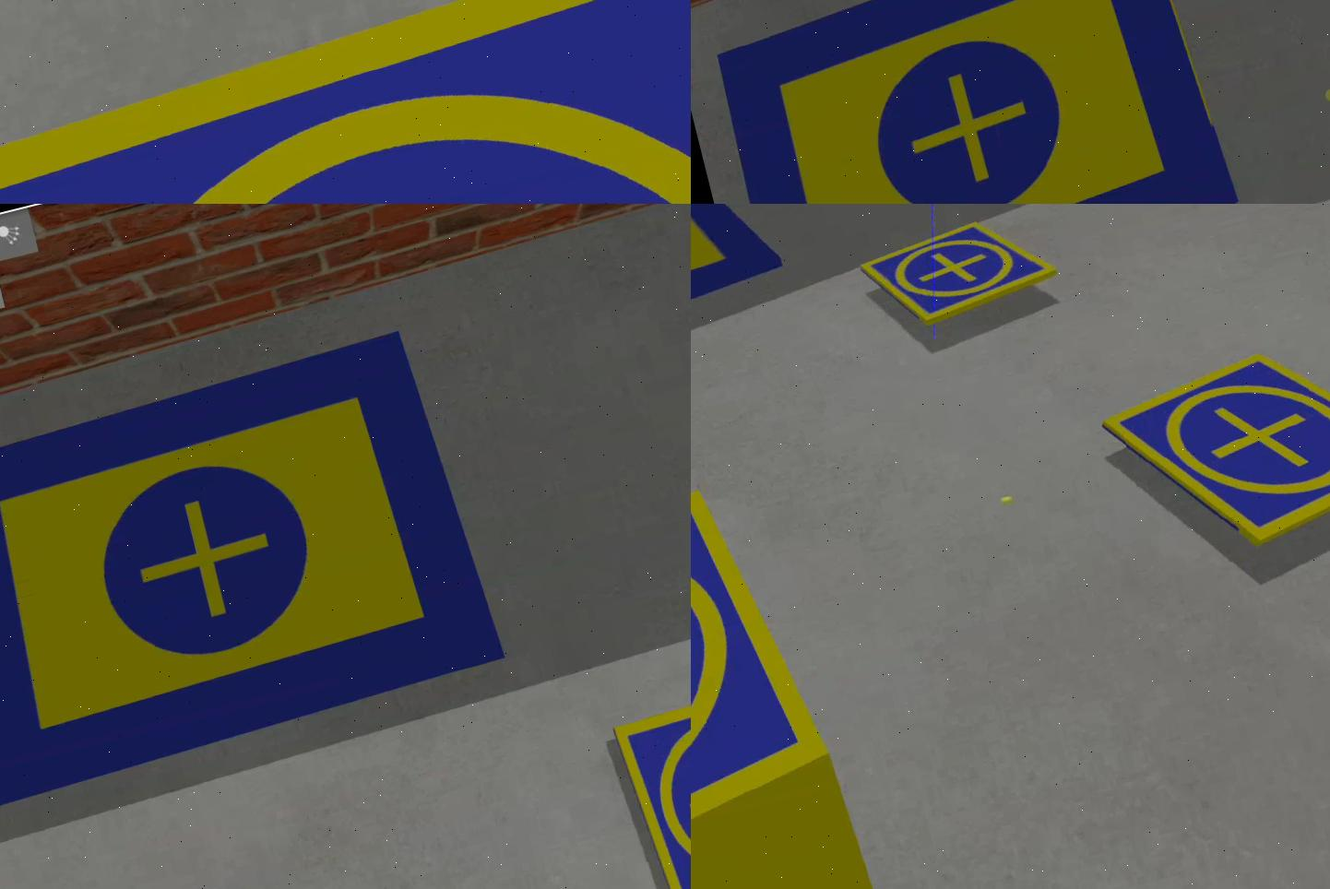large_base: (1, 324, 517, 809), (692, 1, 1257, 205), (692, 205, 797, 406)
small_base: (1, 1, 692, 205), (692, 476, 860, 889), (1098, 319, 1330, 575), (859, 210, 1066, 344), (611, 665, 692, 889)
